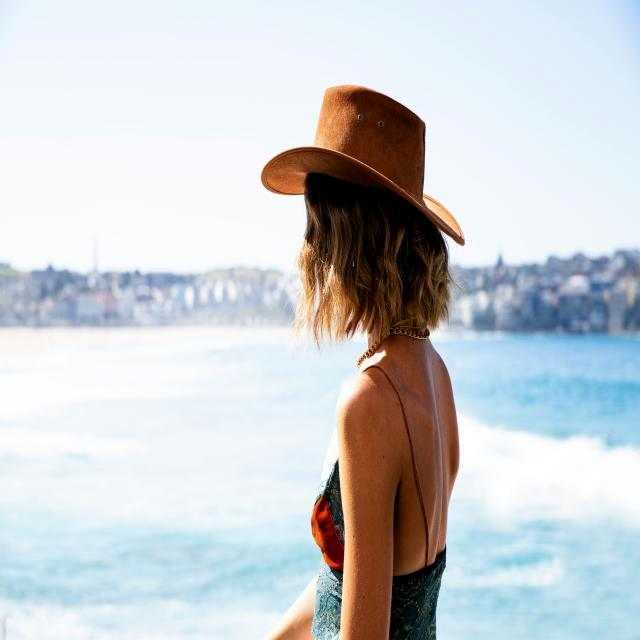no_hard_hat: (261, 85, 465, 246)
person: (270, 174, 460, 640)
